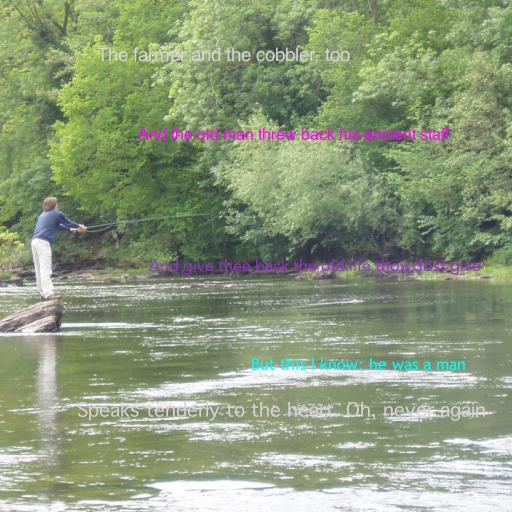Apple Chancery: (96, 47, 350, 64)
Avenir: (149, 258, 481, 275)
Geneva: (76, 401, 486, 421)
Impact: (137, 128, 449, 141)
Trebuchet MS: (250, 358, 466, 371)
